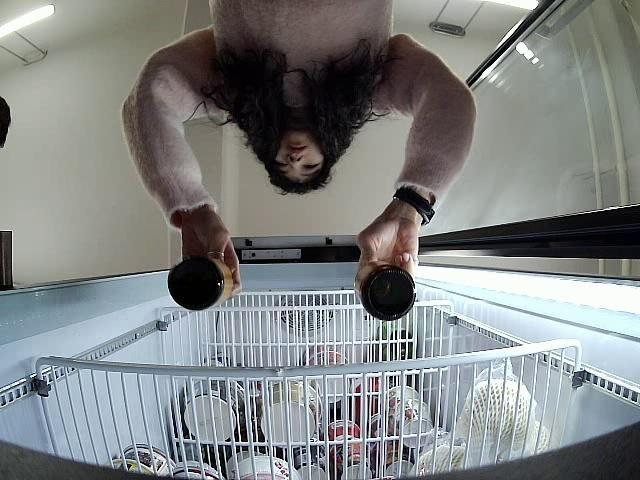17_vita500: (167, 253, 236, 312), (354, 259, 418, 322)
